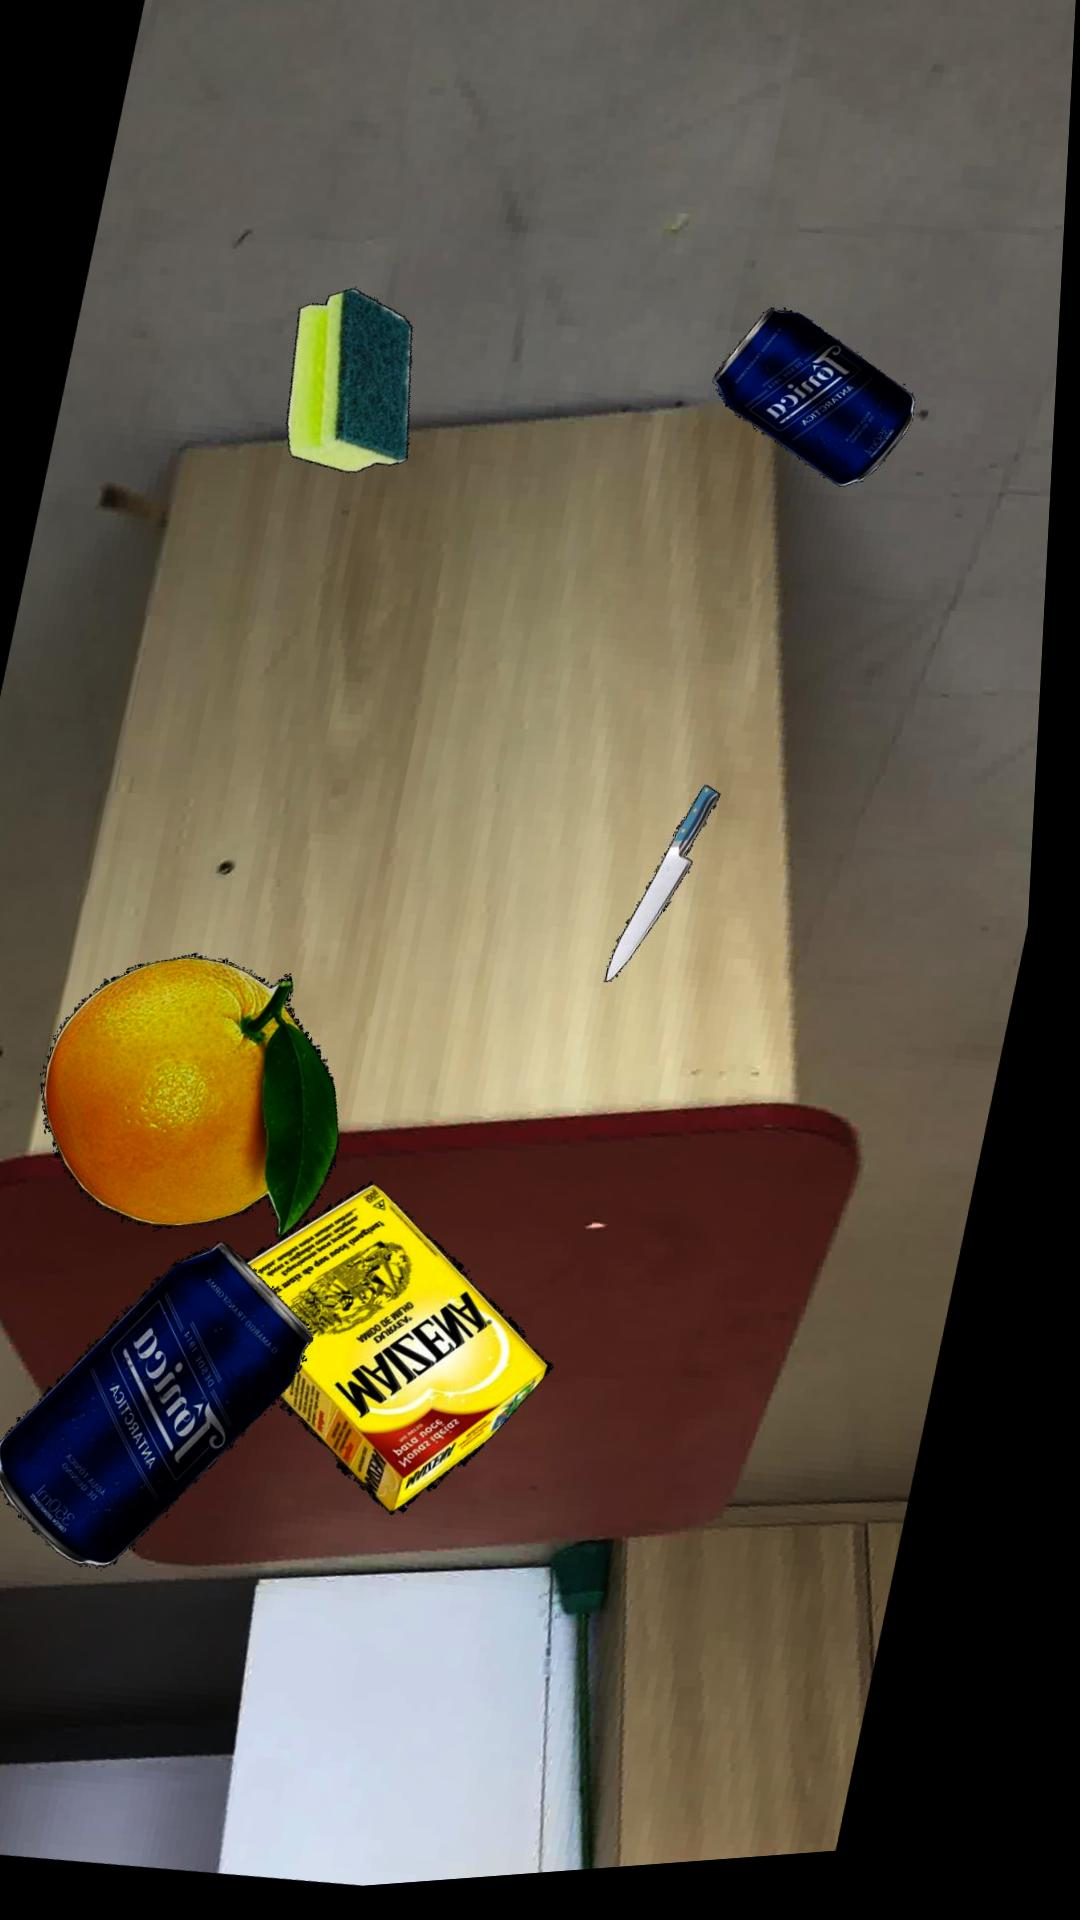knife: (616, 796, 729, 993)
orange: (53, 960, 352, 1242)
sponge: (291, 294, 417, 479)
tonic: (11, 1246, 328, 1569), (717, 320, 919, 501)
